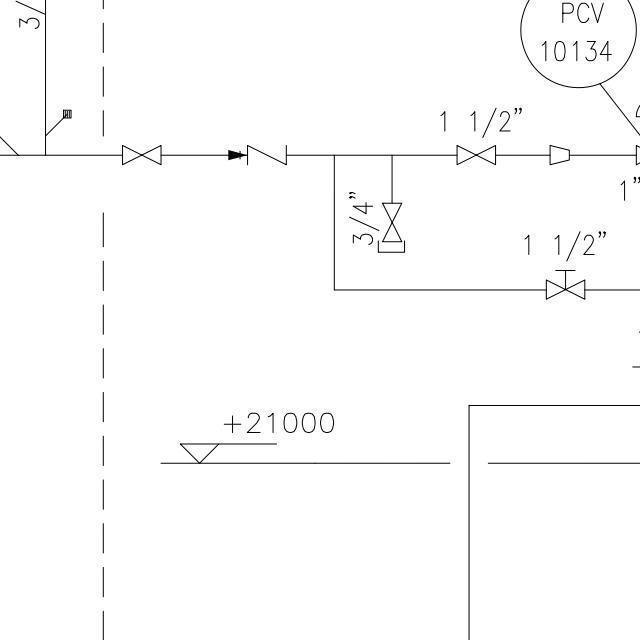EC: (373, 175, 412, 257)
GV: (453, 142, 499, 167), (118, 142, 165, 165), (381, 197, 402, 245)
HV: (542, 261, 592, 302)
SP: (542, 142, 574, 164)
